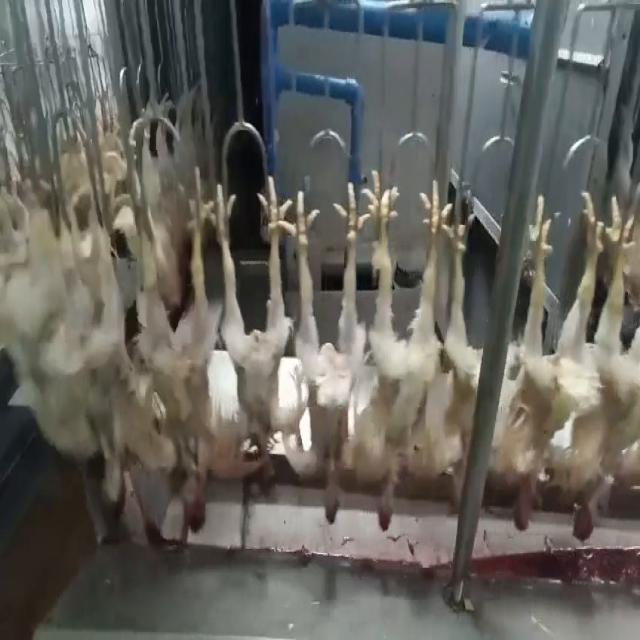chicken: (356, 172, 440, 531), (287, 166, 368, 530), (135, 158, 208, 546), (211, 173, 290, 489), (499, 194, 571, 536), (565, 187, 634, 541), (85, 188, 131, 520), (434, 198, 474, 512)
